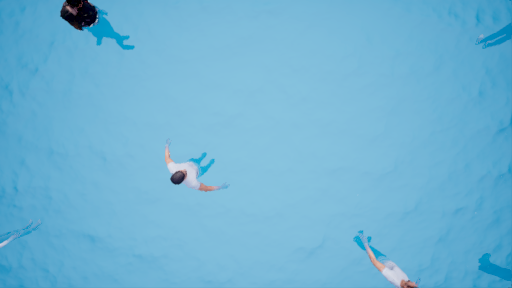person: (51, 1, 142, 52), (349, 228, 424, 288), (159, 139, 229, 197)
